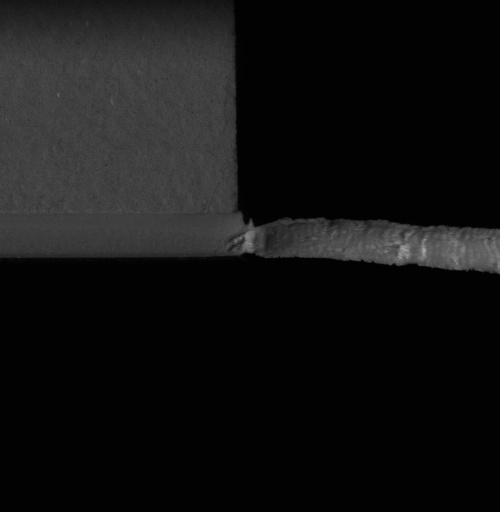changdai: (235, 211, 499, 277)
